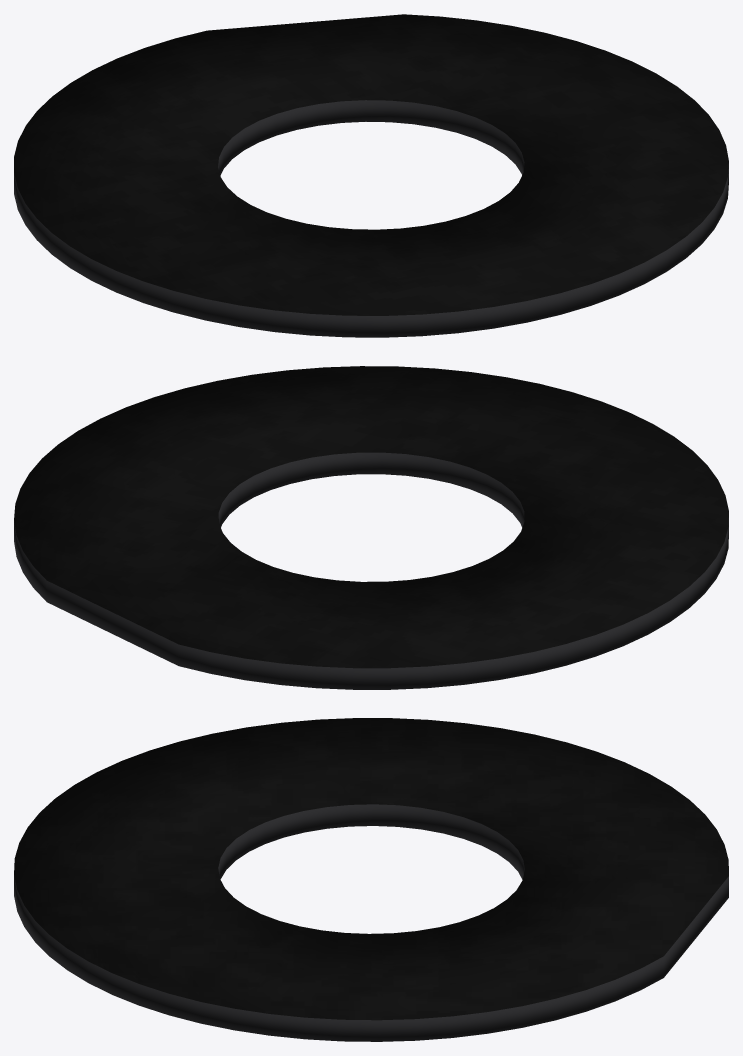
The picture shows the model from 3 angles, top to bottom: view 1: azimuth 30°, elevation 25°; view 2: azimuth 150°, elevation 25°; view 3: azimuth 270°, elevation 25°; orthographic projection.
Visible parts, largest first — view 1: wear_plate_B; view 2: wear_plate_B; view 3: wear_plate_B.
Boxes of the visible parts, bbox=[...] form: wear_plate_B: bbox=[14, 14, 728, 337]; wear_plate_B: bbox=[14, 366, 728, 689]; wear_plate_B: bbox=[14, 718, 728, 1041].
Bounding box in the file's own units: 44.77 × 1.5 × 44.77.
Materials: 2 (1 with a texture image).
